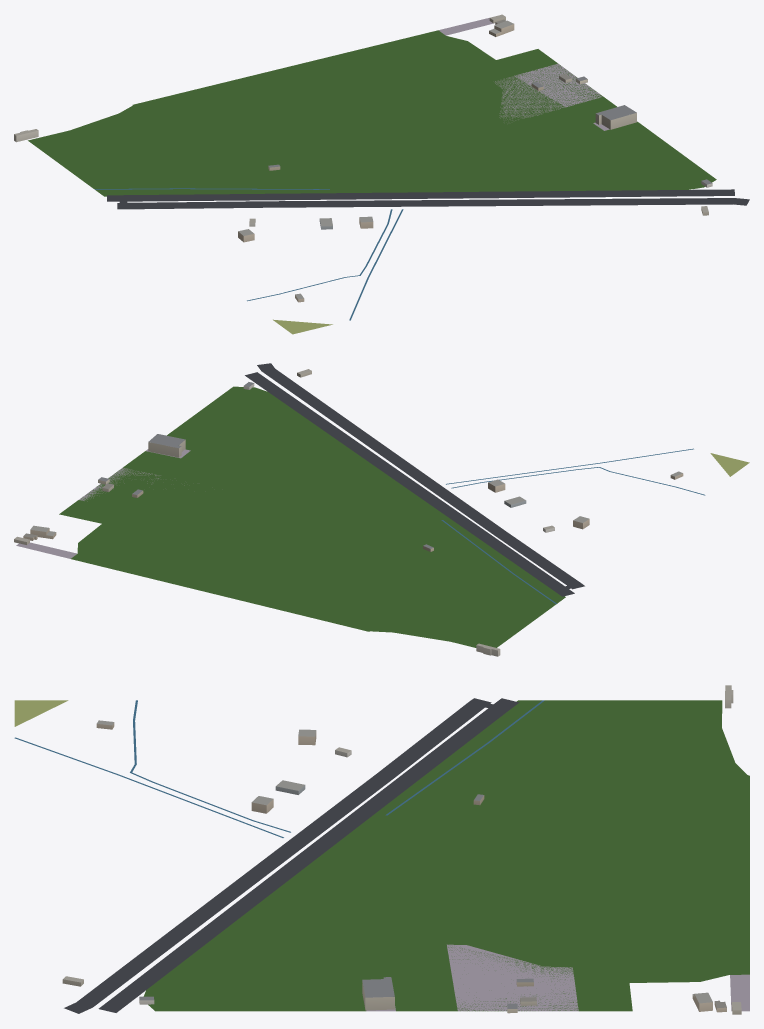
3 views of the same model, one above another, from view 1: azimuth 30°, elevation 25°; view 2: azimuth 150°, elevation 25°; view 3: azimuth 270°, elevation 25° (orthographic). The views are drawn at different scales.
Visible parts, largest first — view 1: landuse, roads, buildings_walls, buildings_roofs, water; view 2: landuse, roads, buildings_walls, buildings_roofs, water; view 3: landuse, roads, buildings_roofs, buildings_walls, water.
Part boxes in pixels (box(x1,y1,x2,y2)): landuse: box(28, 18, 716, 334); roads: box(107, 189, 749, 209); buildings_walls: box(14, 17, 712, 302); buildings_roofs: box(14, 14, 712, 299); water: box(94, 188, 403, 320); landuse: box(16, 386, 749, 647); roads: box(245, 363, 584, 596); buildings_walls: box(14, 371, 683, 656); buildings_roofs: box(14, 369, 682, 650); water: box(441, 448, 705, 603); landuse: box(14, 700, 749, 1011); roads: box(64, 698, 519, 1013); buildings_roofs: box(63, 685, 741, 1010); buildings_walls: box(62, 688, 741, 1014); water: box(14, 700, 544, 837).
Bounding box in the file's own units: 516 × 9.61 × 500.
